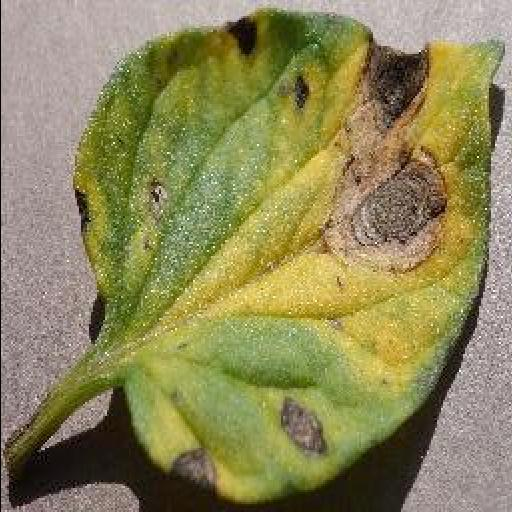disease_tomato: (72, 11, 506, 503)
